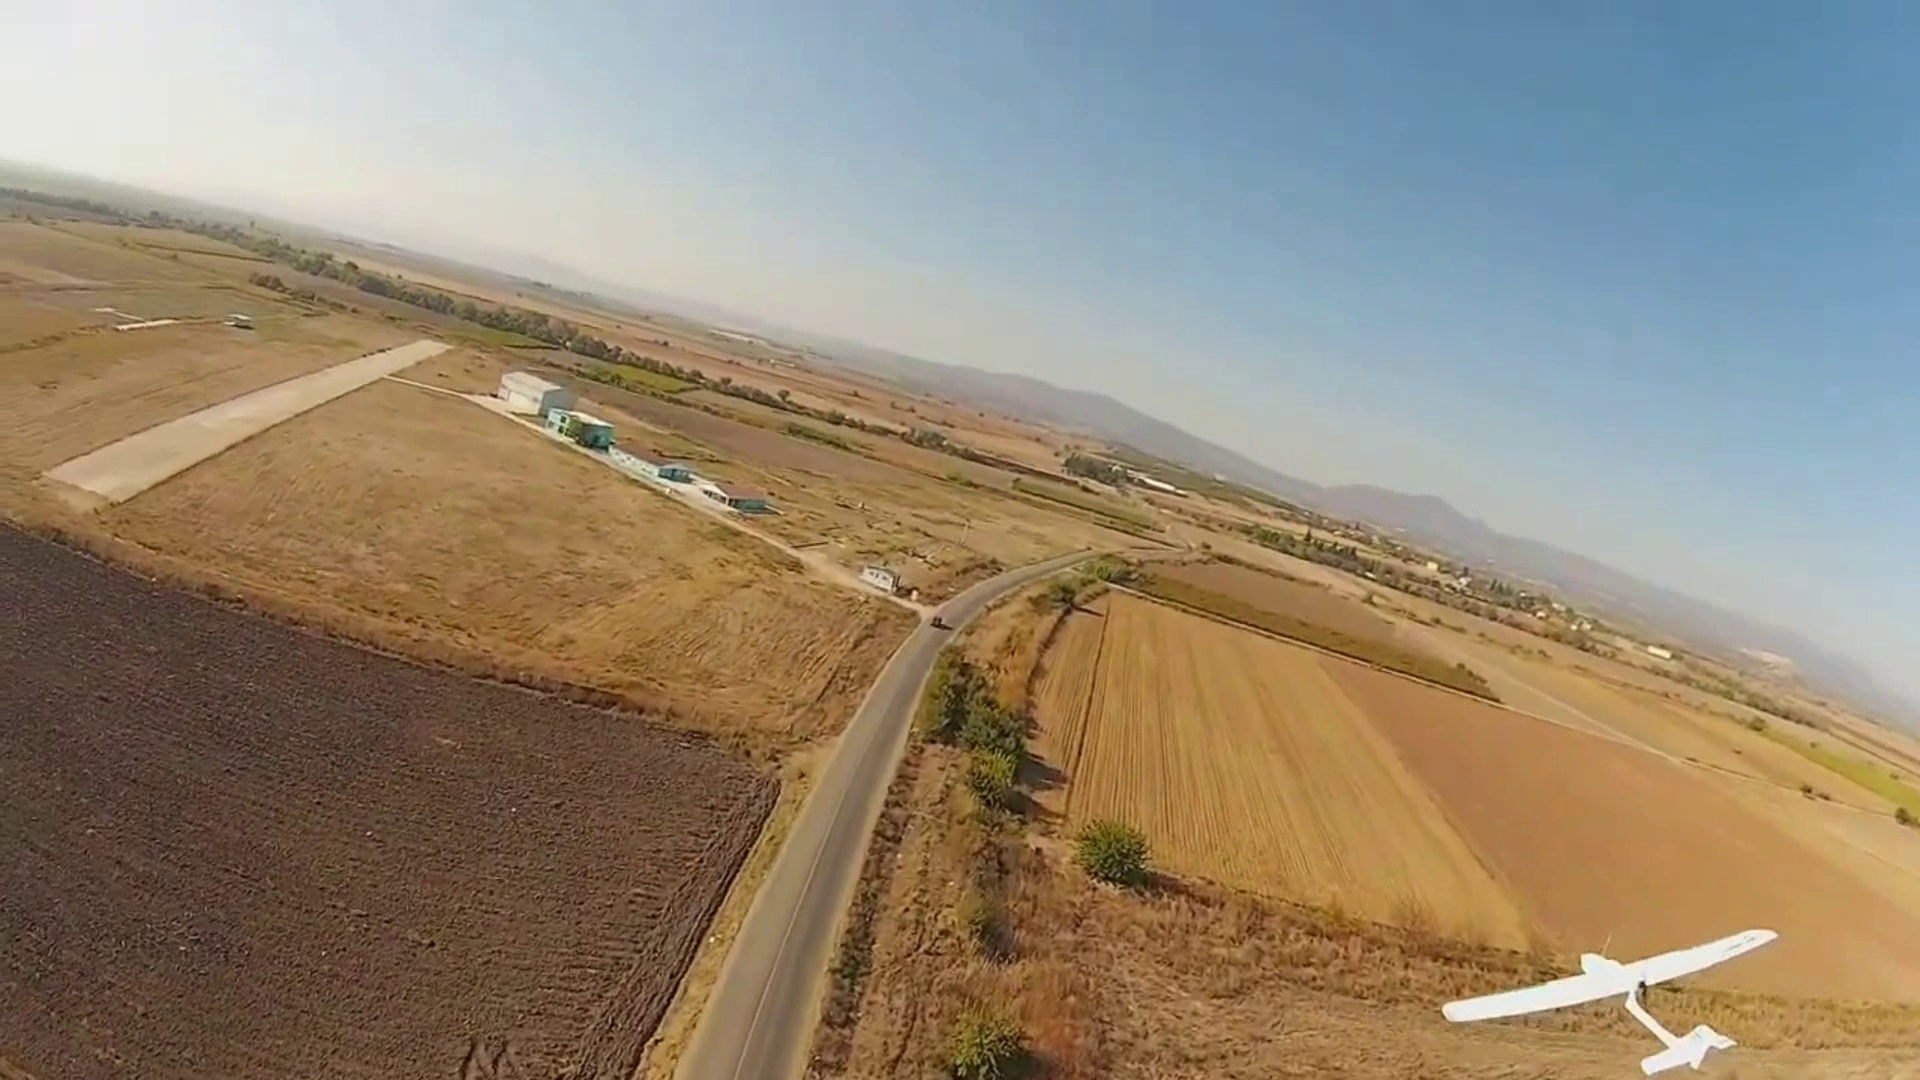airplane: (1440, 928, 1782, 1069)
